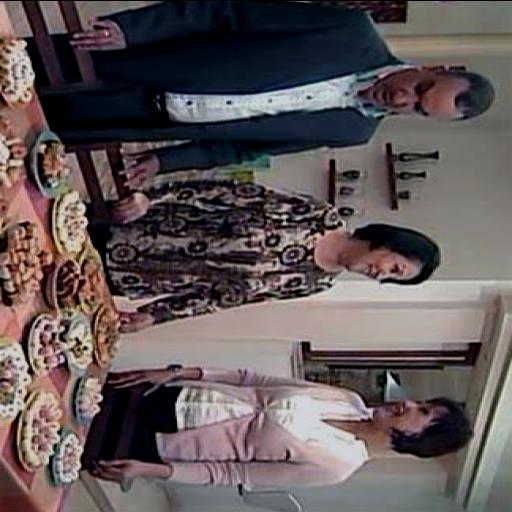slimane: (358, 65, 493, 120)
zeineb: (371, 397, 473, 456)
